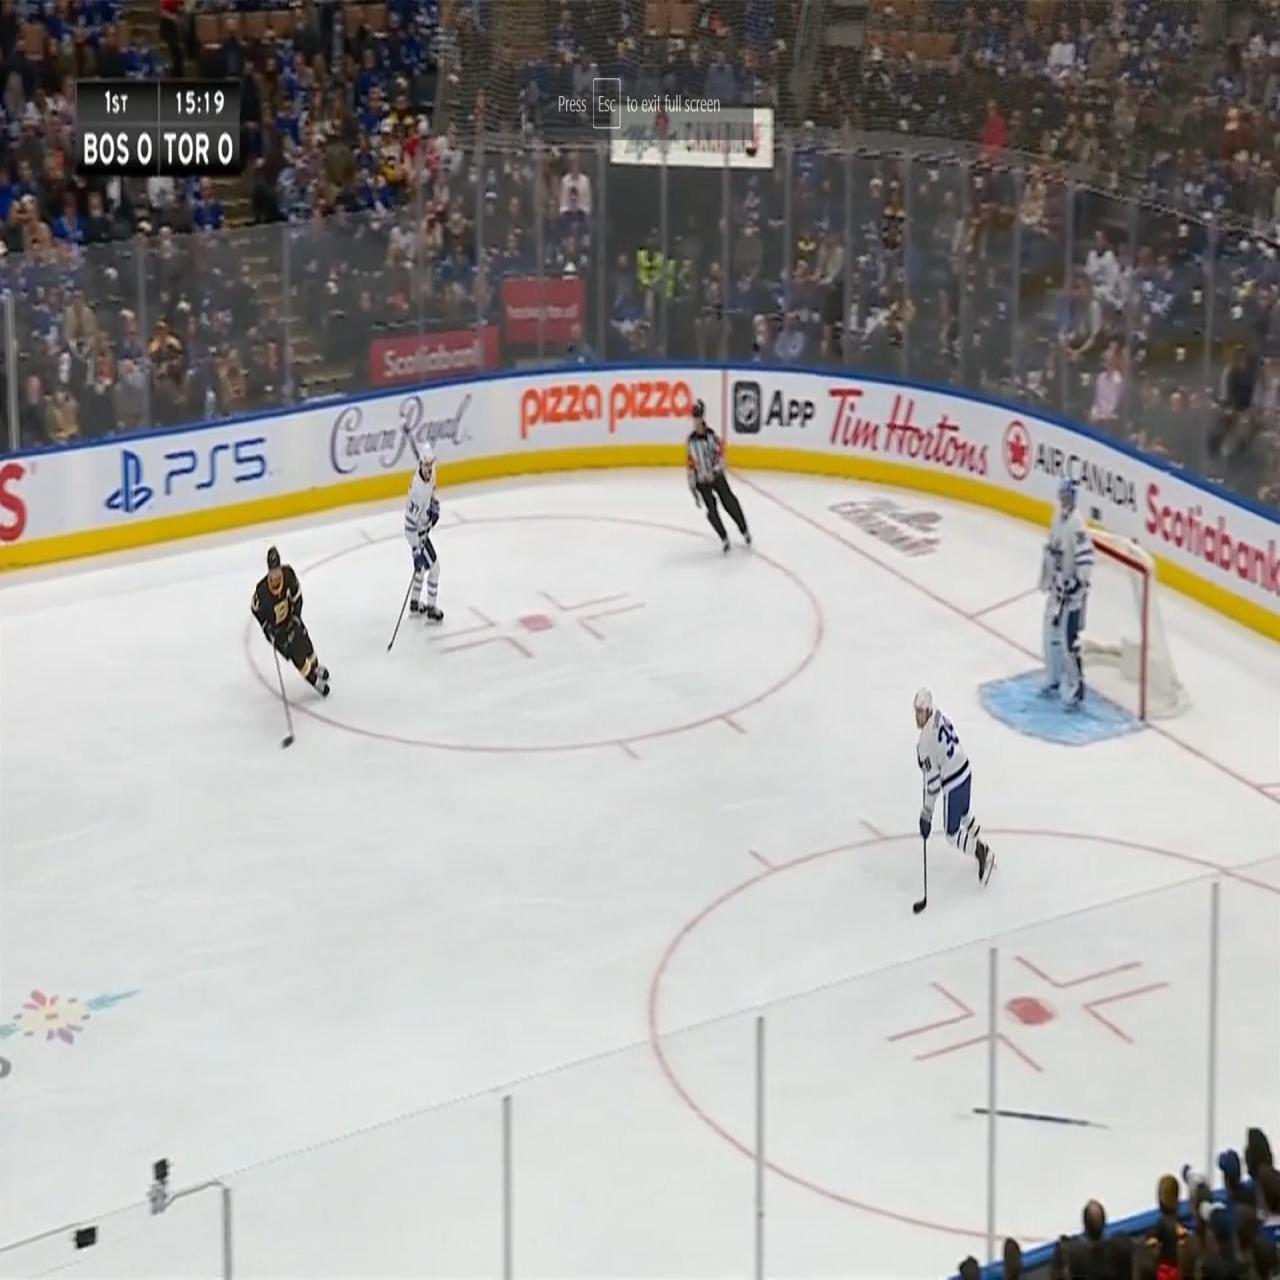Ad: (1144, 467, 1280, 617), (828, 377, 992, 486), (1002, 406, 1135, 533), (102, 438, 281, 512), (519, 375, 695, 442), (830, 476, 947, 574), (327, 401, 477, 465), (734, 373, 813, 447)
